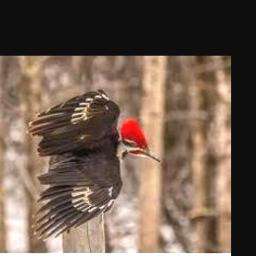Woodpecker: (27, 89, 161, 241)
